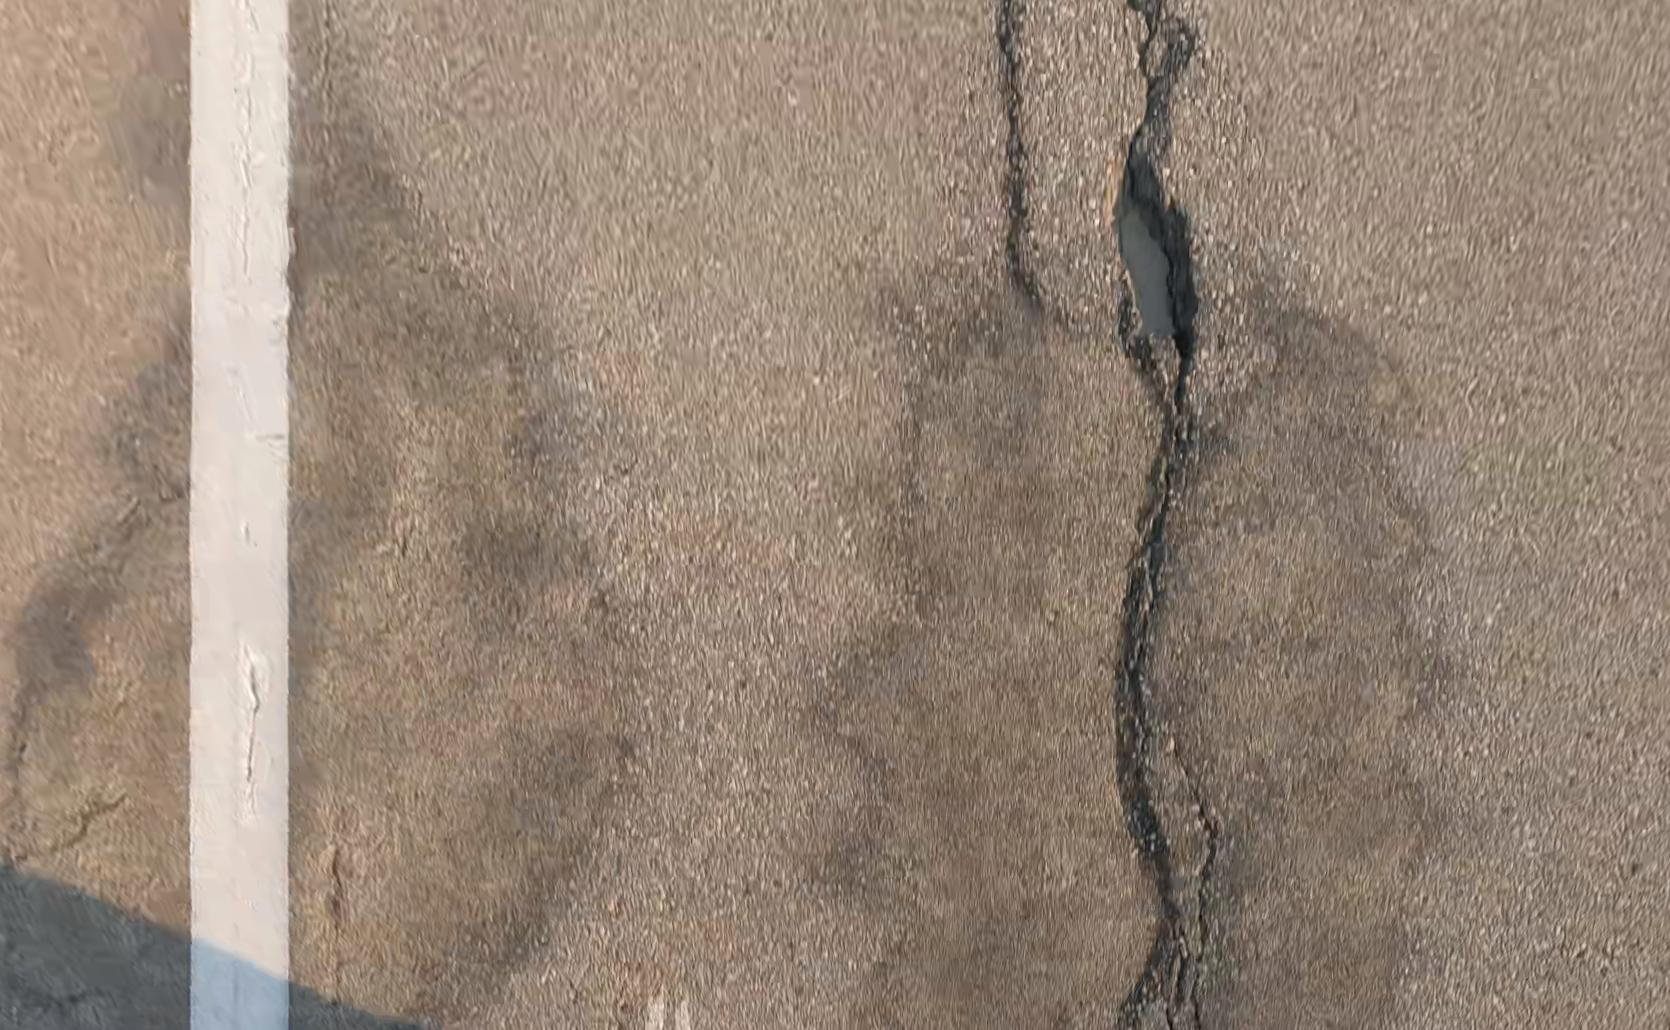pothole: (1118, 146, 1200, 407)
pothole_patch_good: (289, 4, 617, 1029), (0, 360, 187, 1030)
pothole_patch_poor: (812, 241, 1434, 1028)
